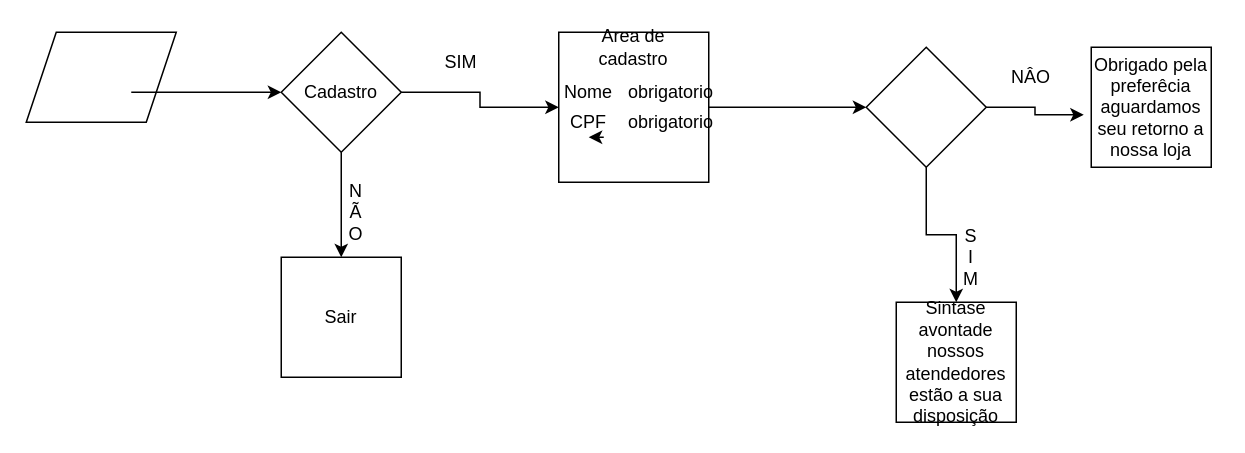
This 1245x453 diagram has some shape labels left out. The shapes that lost their labels are listed below. From the top down, each one's box as (x1, y1, x2, y2) in pixels, then its label:
(25, 31, 176, 122): Entidade
(865, 46, 986, 167): Compra
